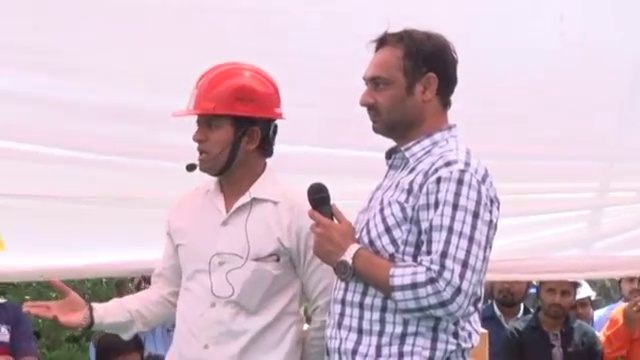helmet: (177, 55, 289, 129), (572, 285, 598, 302)
helmet_off: (358, 27, 465, 146), (91, 328, 144, 359), (537, 285, 576, 326), (493, 278, 531, 310), (615, 274, 640, 305)
helmet_on: (178, 54, 289, 183), (573, 283, 598, 324)
person: (19, 52, 339, 359), (307, 26, 502, 356), (517, 283, 602, 357), (479, 277, 542, 357), (600, 273, 640, 358), (0, 280, 43, 359)
